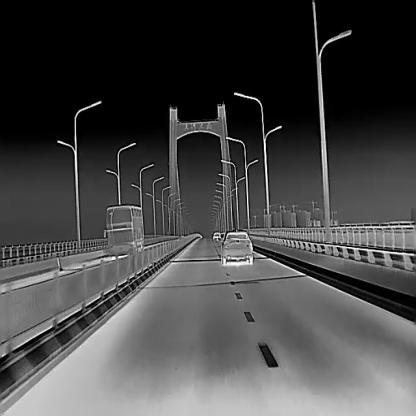car: (106, 205, 142, 255), (221, 230, 253, 264), (212, 231, 220, 239)
